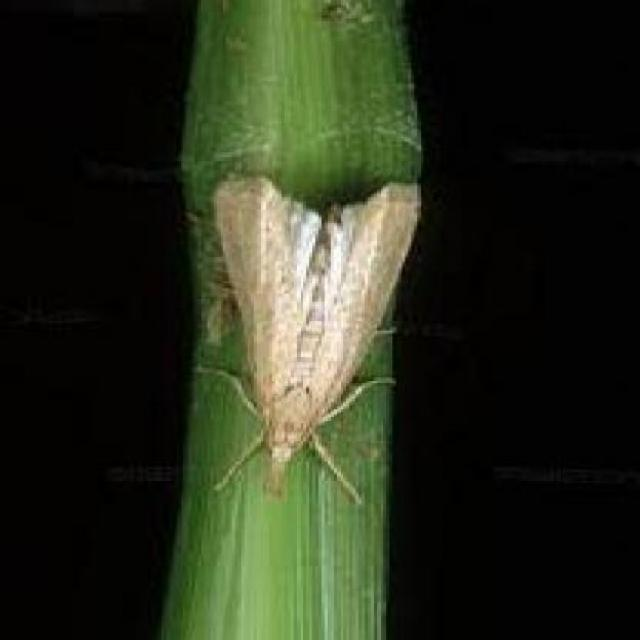stem-borer: (206, 167, 397, 478)
